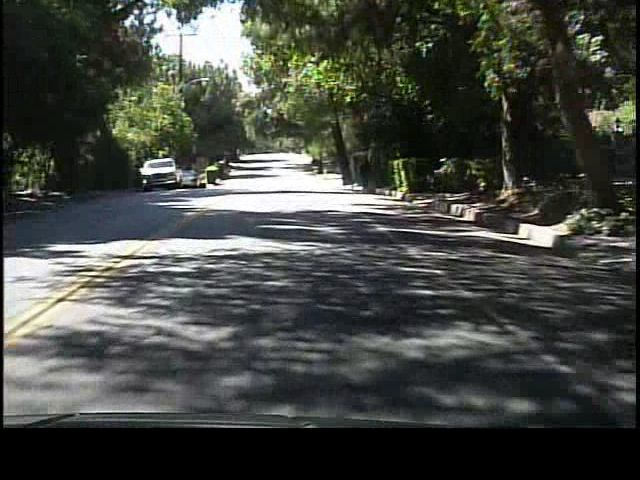person: (357, 154, 375, 196)
